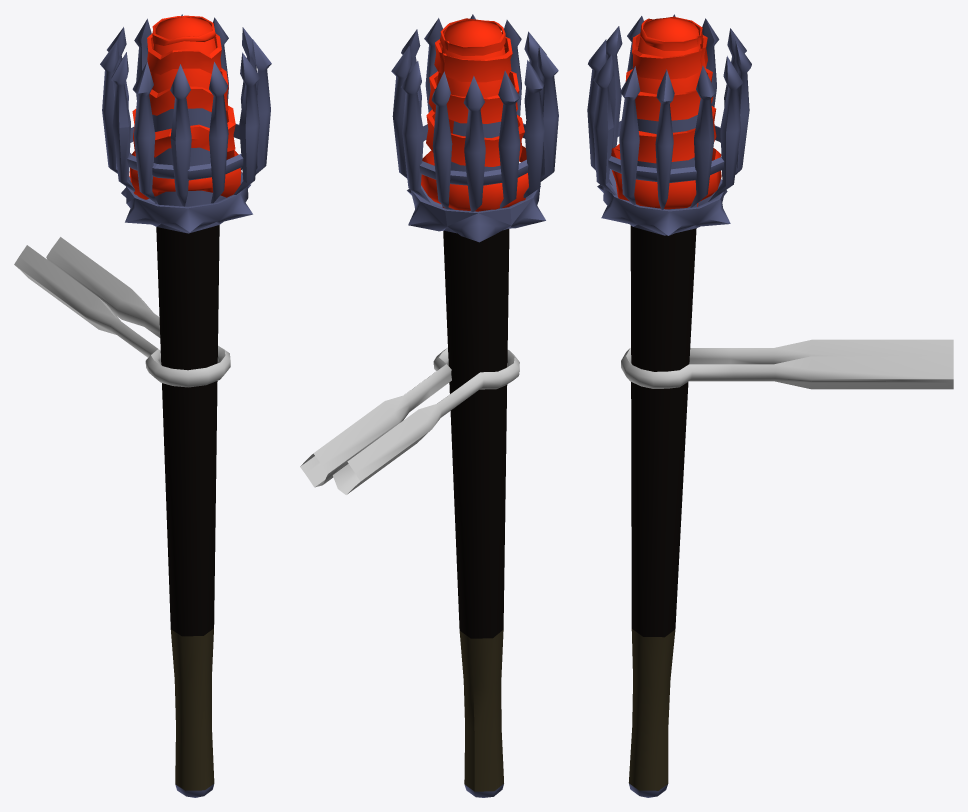
Rendered from TorchWall_23.fbx.
3 renders of one model, left to right at view 1: azimuth 30°, elevation 25°; view 2: azimuth 150°, elevation 25°; view 3: azimuth 270°, elevation 25°, orthographic.
Visible parts, largest first — view 1: TorchWall_23; view 2: TorchWall_23; view 3: TorchWall_23.
Boxes of the visible parts, x1,y1,x2,y2 form: TorchWall_23: (14,14,271,797); TorchWall_23: (300,14,558,797); TorchWall_23: (587,14,953,797).
Size of the model in its own units: 12.65 by 27.76 by 65.17.
